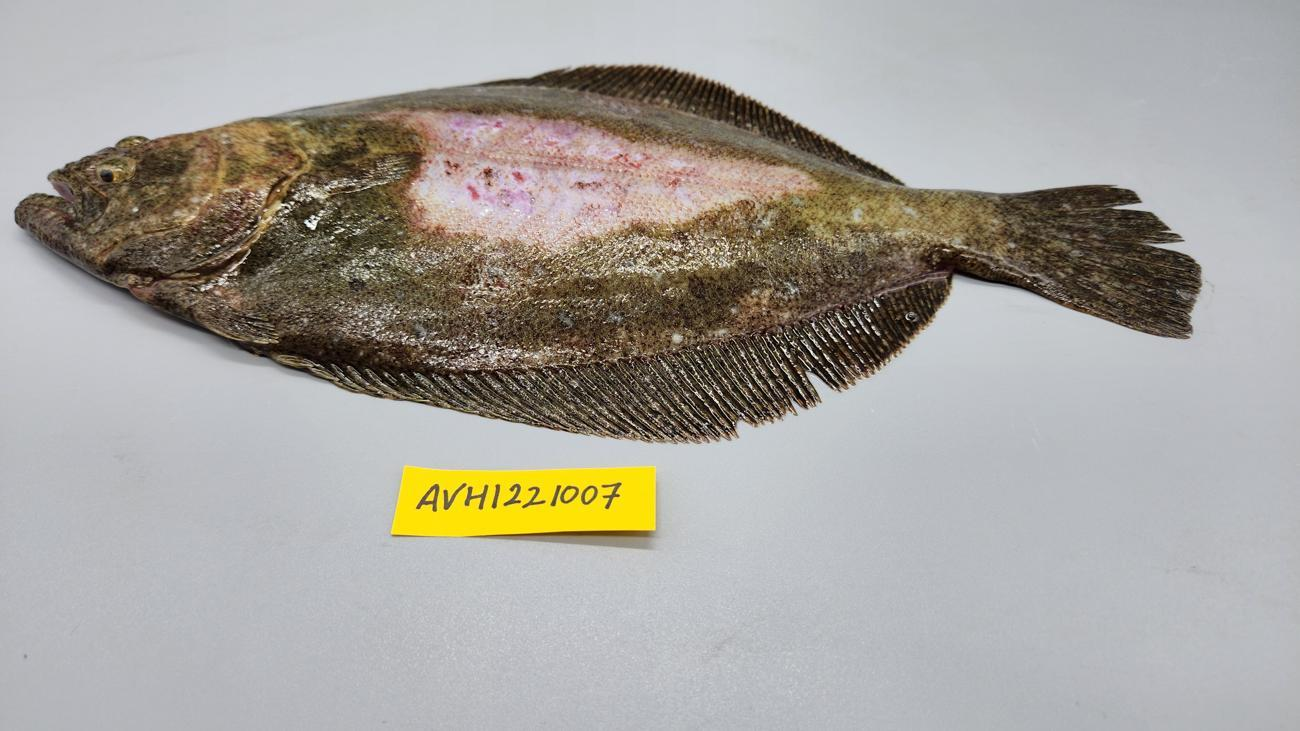VIDYH: (719, 259, 950, 337), (212, 150, 317, 244), (462, 171, 536, 210), (451, 251, 489, 301), (488, 272, 512, 291)
VIDYU: (366, 105, 828, 262)
VIOUY: (16, 66, 1202, 438)
